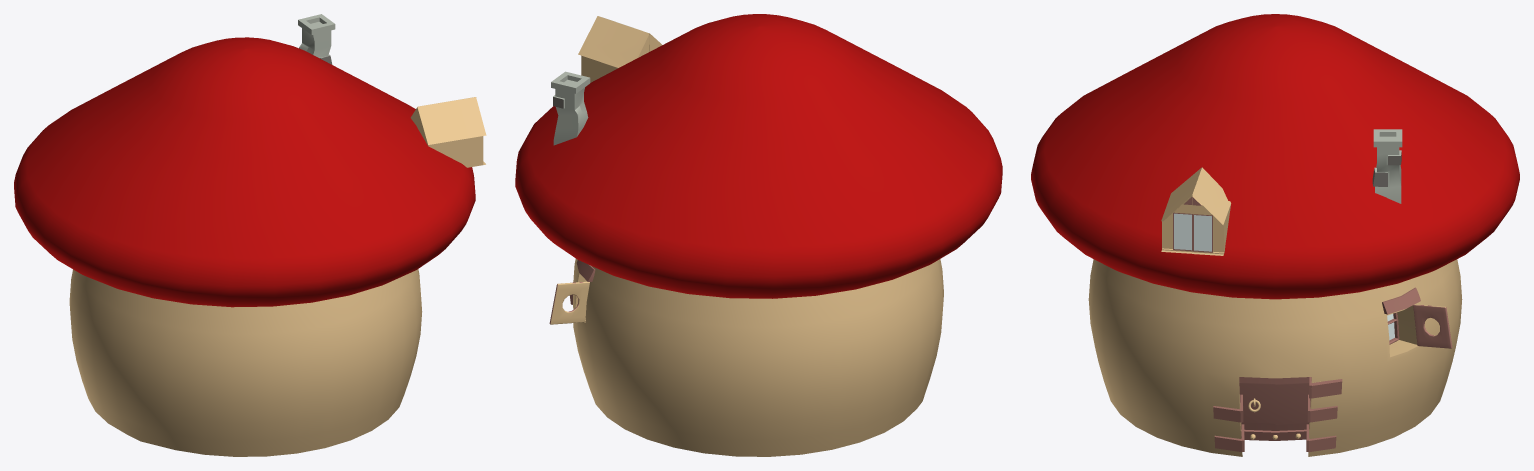
The model's file is hut.fbx.
3 renders of one model, left to right at view 1: azimuth 30°, elevation 25°; view 2: azimuth 150°, elevation 25°; view 3: azimuth 270°, elevation 25°, orthographic. The views are drawn at different scales.
Visible parts, largest first — view 1: Cylinder, Cylinder.004, Cube; view 2: Cylinder, Cylinder.004, Cube, Cylinder.002; view 3: Cylinder, Cylinder.004, Cube, Cylinder.002, Cylinder.006, Cylinder.005, Cylinder.001.
Part boxes in pixels (x1=…): Cylinder: x1=14, y1=37, x2=475, y2=456; Cylinder.004: x1=410, y1=97, x2=486, y2=167; Cube: x1=298, y1=14, x2=335, y2=58; Cylinder: x1=515, y1=14, x2=1002, y2=456; Cylinder.004: x1=578, y1=16, x2=662, y2=82; Cube: x1=551, y1=71, x2=590, y2=145; Cylinder.002: x1=549, y1=281, x2=589, y2=324; Cylinder: x1=1031, y1=14, x2=1519, y2=456; Cylinder.004: x1=1161, y1=167, x2=1231, y2=255; Cube: x1=1373, y1=129, x2=1402, y2=203; Cylinder.002: x1=1413, y1=304, x2=1452, y2=348; Cylinder.006: x1=1213, y1=394, x2=1337, y2=422; Cylinder.005: x1=1214, y1=424, x2=1336, y2=452; Cylinder.001: x1=1382, y1=287, x2=1420, y2=314.
Bounding box in the file's own units: 313 × 255 × 313.
